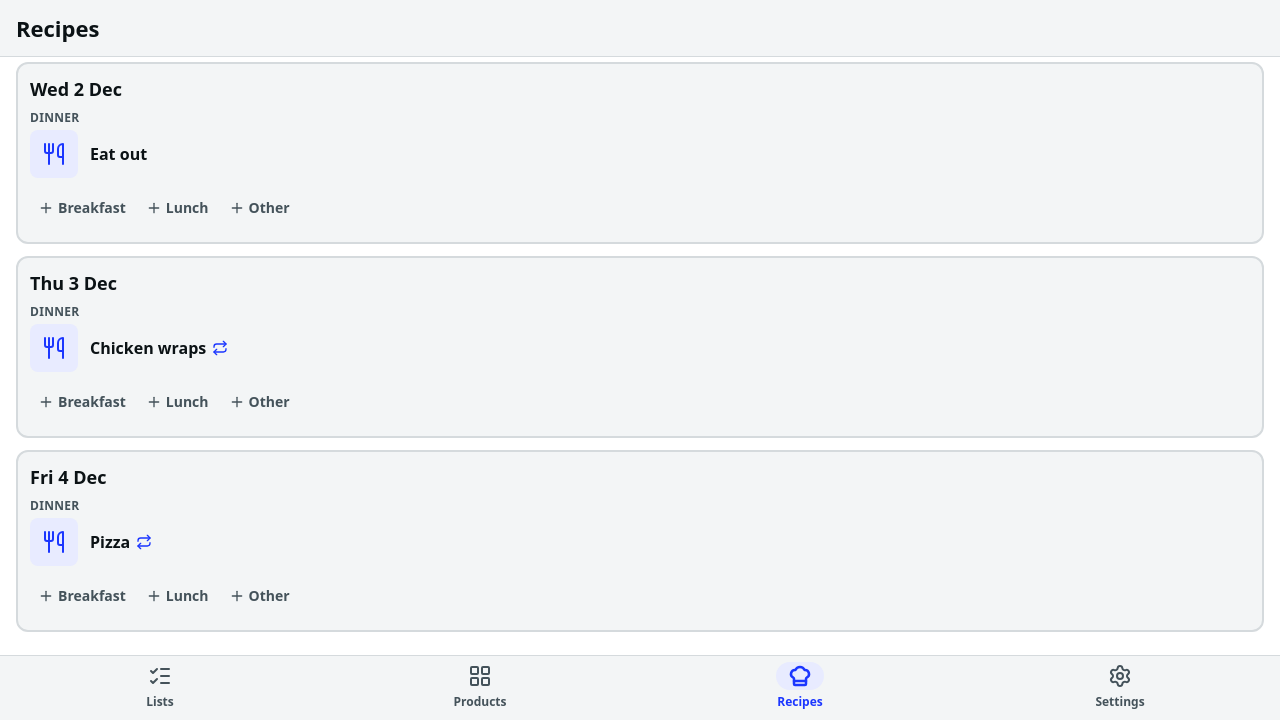
recurring meals on the plan › changes this week only: skips the occurrence and adds a prefilled one-off
(page scrolled)
Click the button "Pizza". click: x=54, y=542
box: [30,514,1250,570]
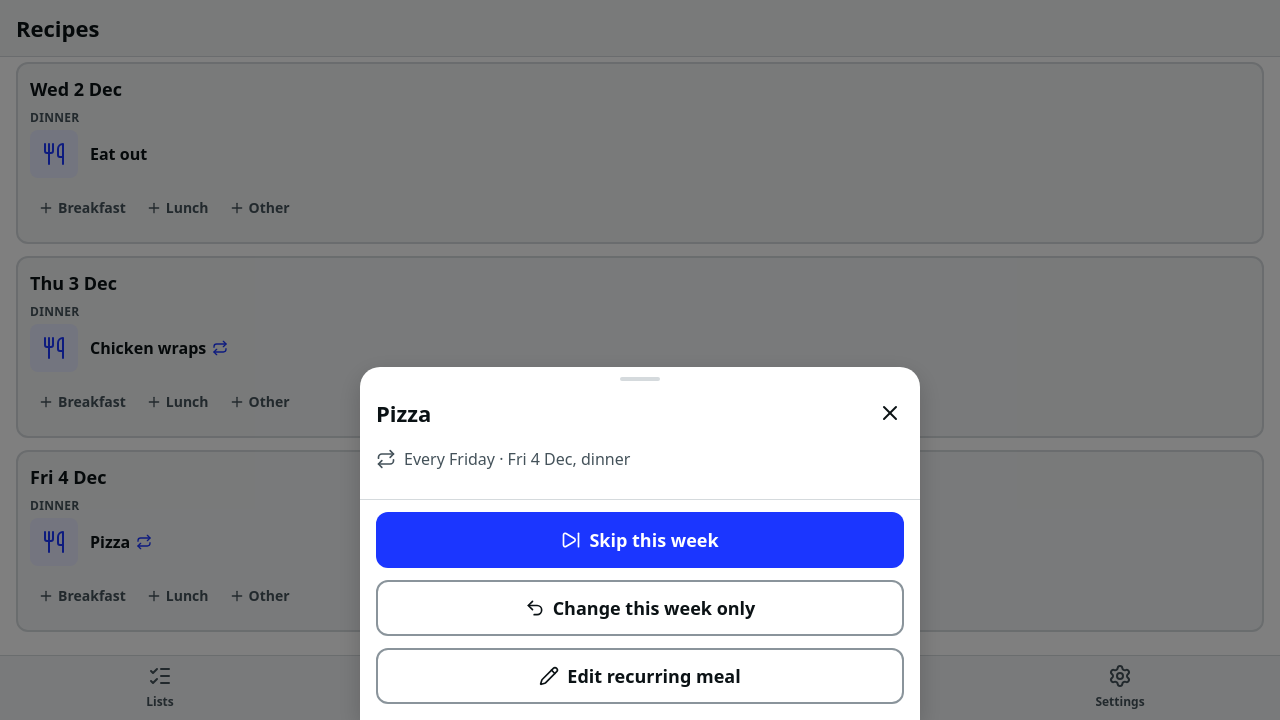
Click the button "Change this week only". click: x=640, y=608
box: [376,580,904,636]
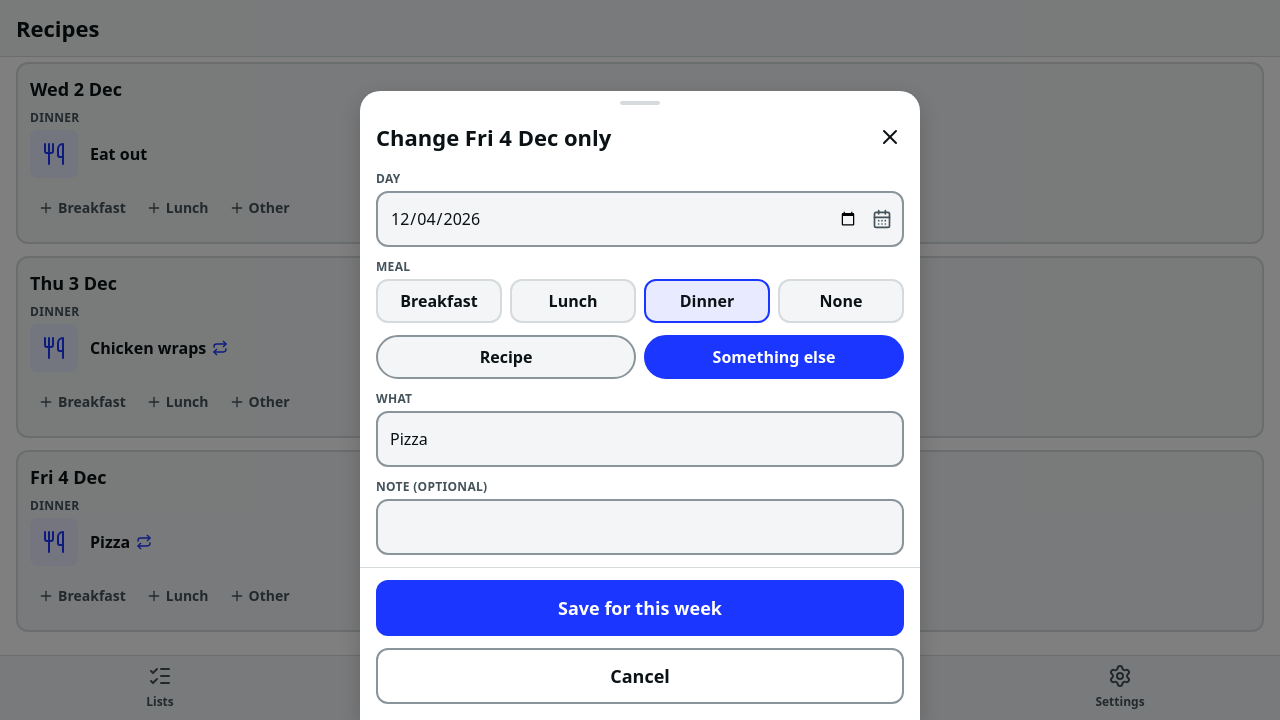
Result: the field labelled "What" holds "Pizza"
Replace the text in the field labelled "What" with "Curry night". click: x=640, y=439
box: [376,411,904,467]
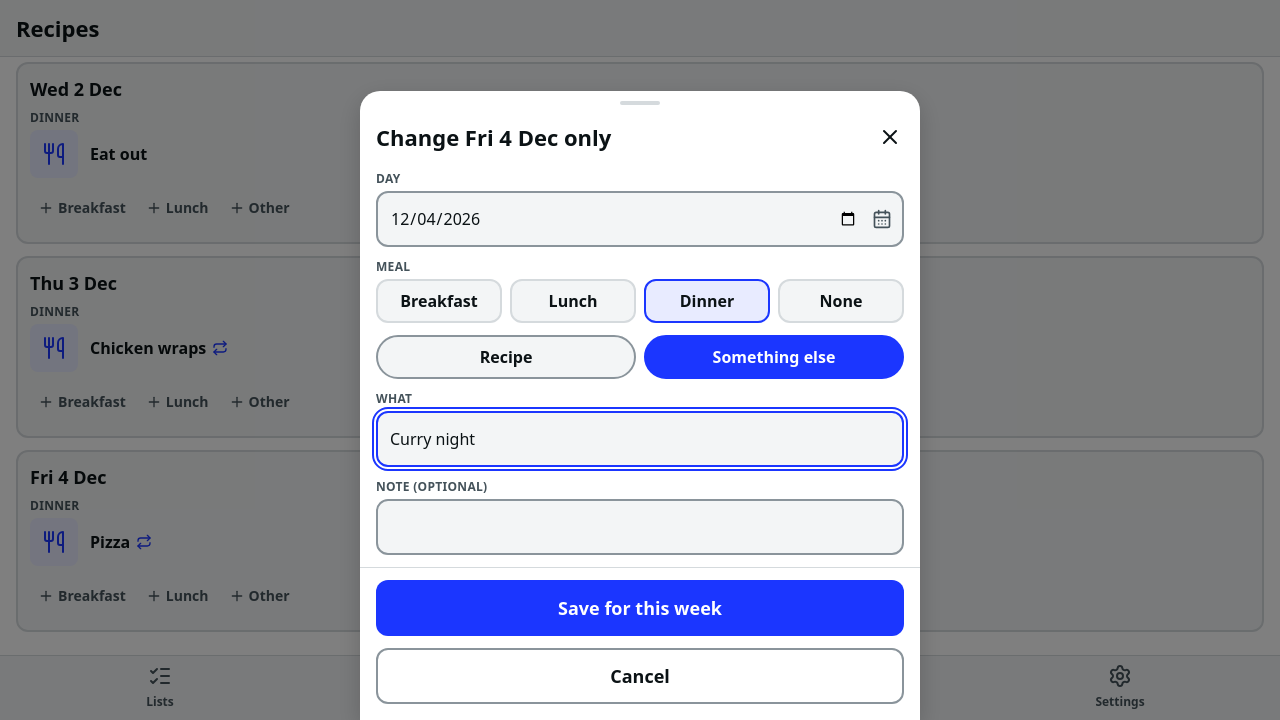
Click the button "Save for this week". click: x=640, y=608
box: [376,580,904,636]
(page scrolled)
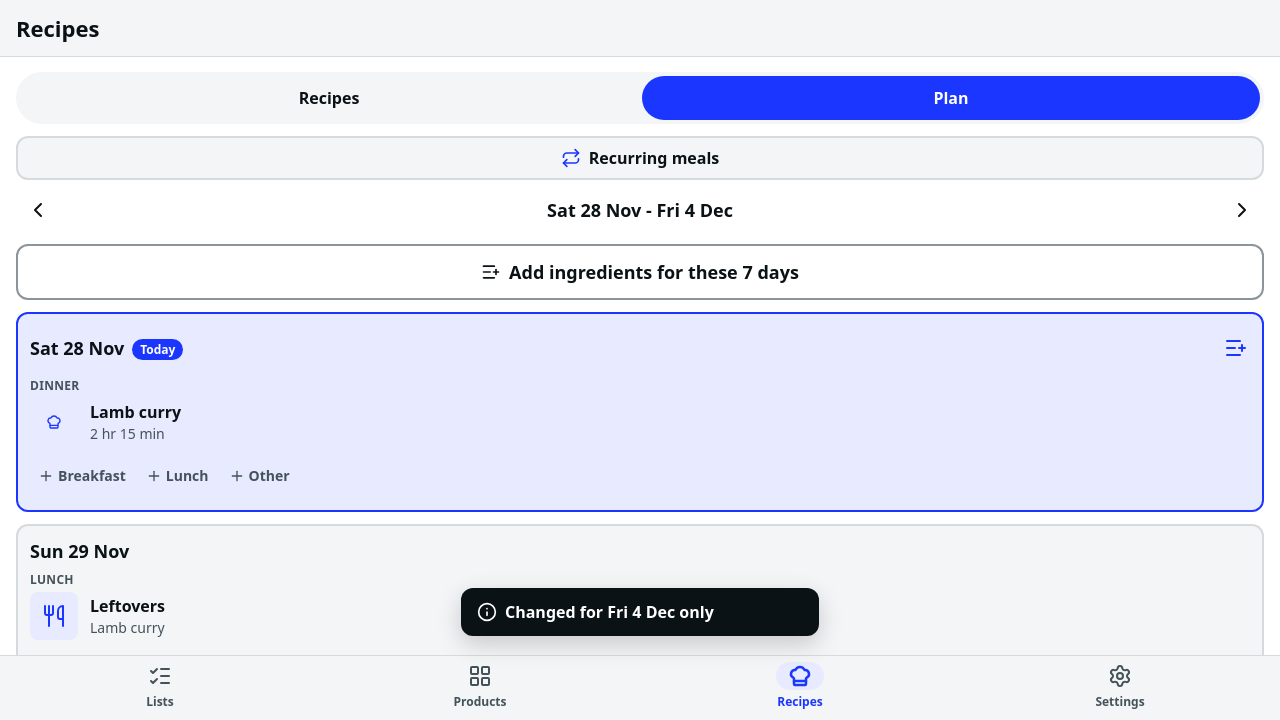
Result: the button "Pizza" is gone
The next Friday still has the recurring pizza.
Click the button named "Next 7 days". click: x=1242, y=210
box: [1220,188,1264,232]
(page scrolled)
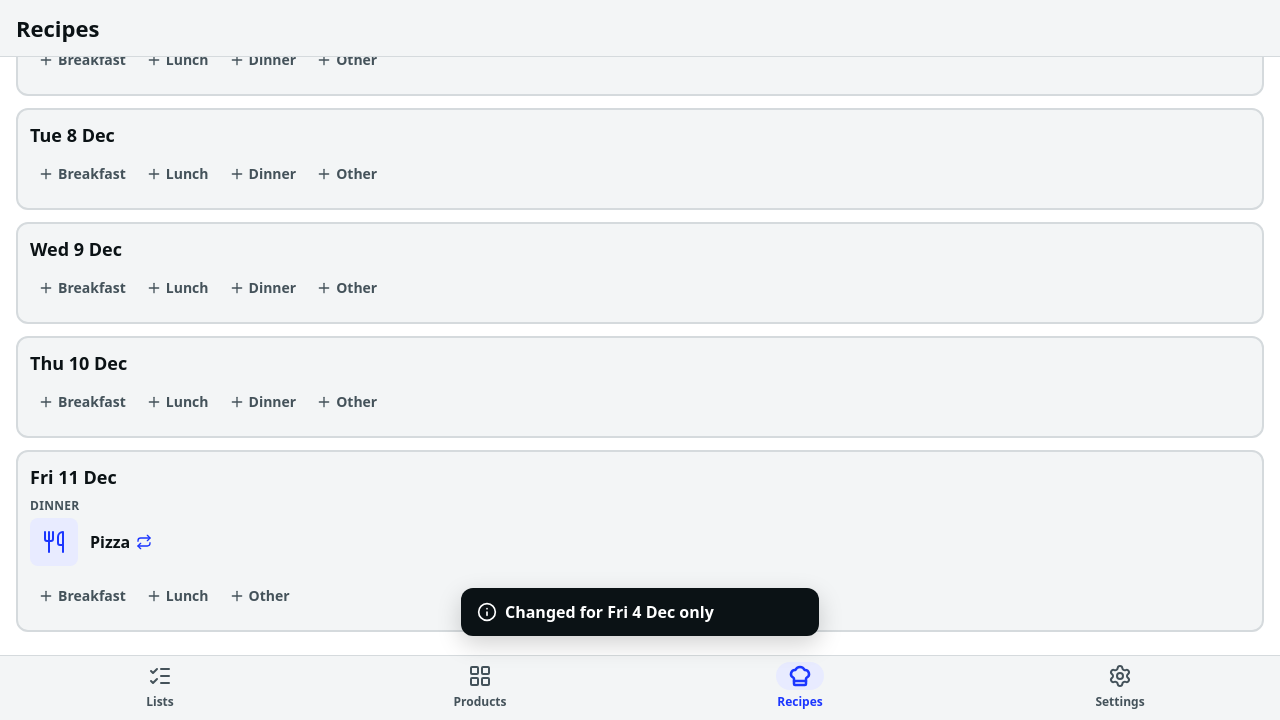
Result: the text "Pizza" is shown at [90,531,152,553]
